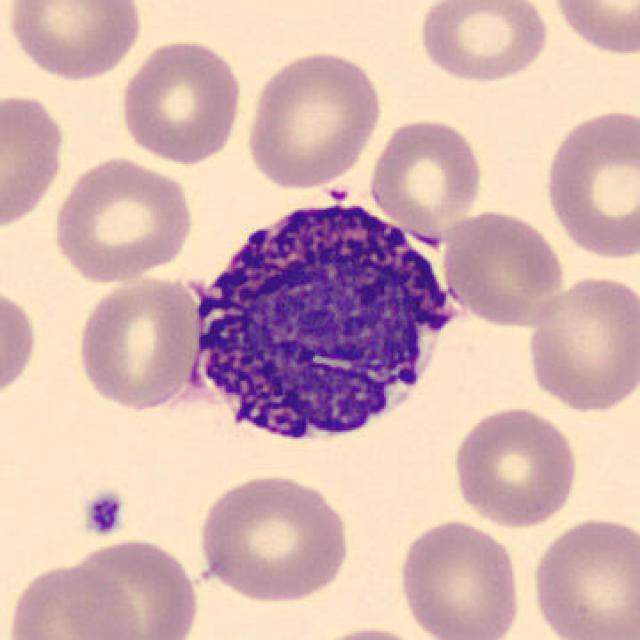Basophil: (176, 184, 475, 461)
Platelets: (78, 486, 128, 540)
RBC: (194, 469, 354, 605), (242, 46, 386, 192), (48, 152, 197, 286), (73, 270, 203, 412), (448, 402, 581, 531), (116, 35, 246, 166), (522, 270, 636, 414), (394, 516, 524, 640), (439, 206, 569, 330), (540, 104, 638, 263), (62, 534, 201, 640), (526, 513, 638, 640), (366, 115, 487, 231), (414, 0, 553, 85), (4, 0, 146, 83), (3, 560, 145, 640), (0, 88, 69, 234), (0, 280, 41, 406), (548, 0, 636, 58), (300, 622, 438, 640)
